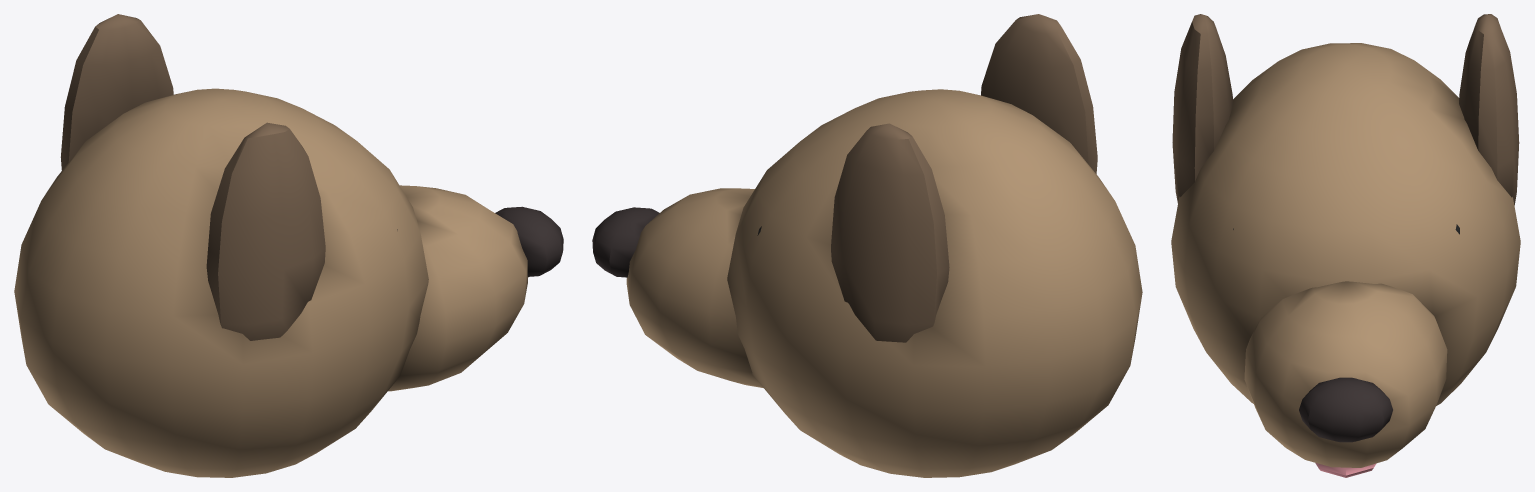
File: dog_head.glb
3 renders of one model, left to right at view 1: azimuth 30°, elevation 25°; view 2: azimuth 150°, elevation 25°; view 3: azimuth 270°, elevation 25°, orthographic. The views are drawn at different scales.
Visible parts, largest first — view 1: boat_fur, boat_furdark, boat_nose; view 2: boat_fur, boat_furdark, boat_nose; view 3: boat_fur, boat_furdark, boat_nose, boat_tongue.
Part boxes in pixels (x1,y1,x2,y2): boat_fur: (14,88,528,477); boat_furdark: (60,14,325,340); boat_nose: (495,206,563,276); boat_fur: (626,89,1142,477); boat_furdark: (831,14,1097,342); boat_nose: (592,207,659,277); boat_fur: (1171,43,1520,467); boat_furdark: (1172,14,1519,205); boat_nose: (1299,377,1392,442); boat_tongue: (1315,463,1376,477).
Size of the model in its own units: 0.3628 by 0.2673 by 0.2221.
